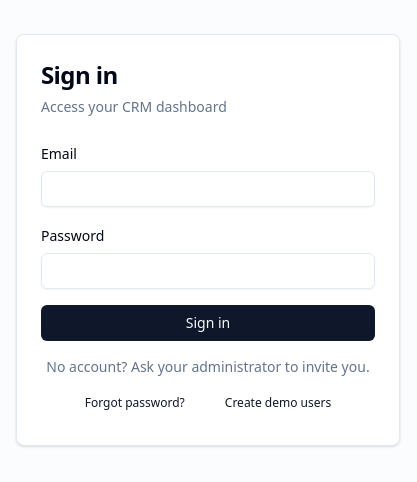
it: Login form › shows a server error on failed login
Type "user@test.com" into the field labelled "Email" at (208, 189), box [41,171,375,207]
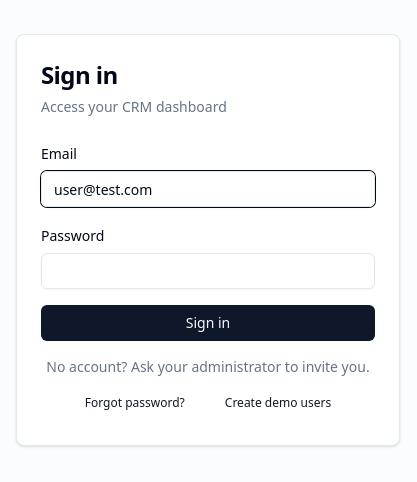
Type "wrong" into the password field labelled "Password" at (208, 271), box [41,253,375,289]
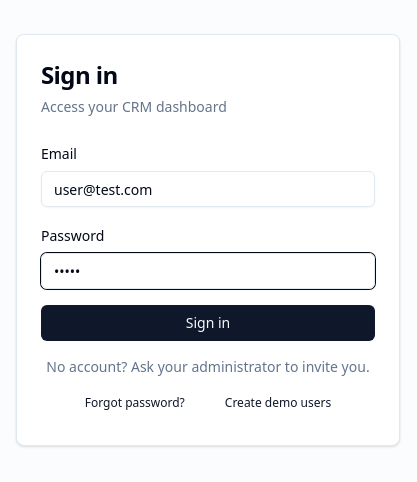
Click the button "Sign in" at (208, 323), box [41,305,375,341]
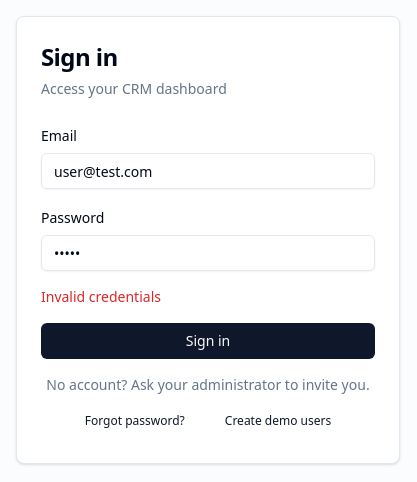
expect the text "Invalid credentials" is shown: met, box [41,287,161,306]
